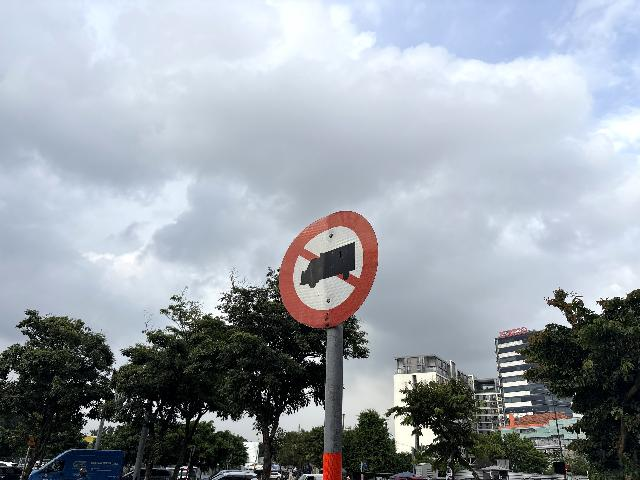cam-xe-tai: (279, 210, 379, 329)
